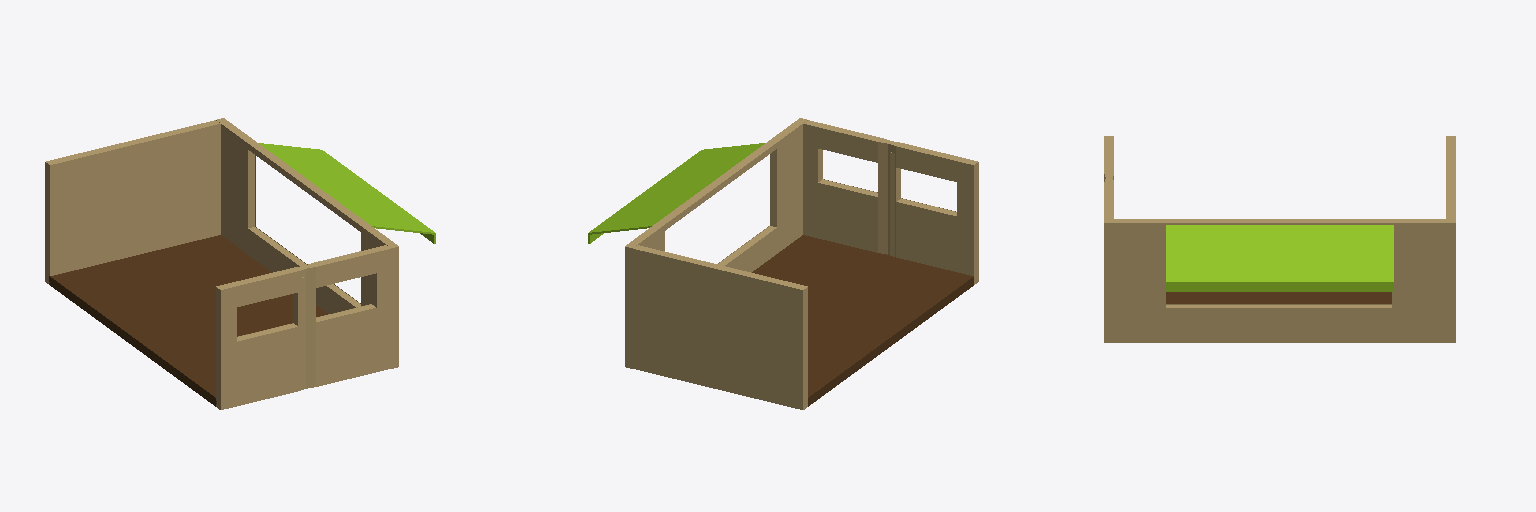
3 views of the same model, side by side, from view 1: azimuth 30°, elevation 25°; view 2: azimuth 150°, elevation 25°; view 3: azimuth 270°, elevation 25° (orthographic).
Visible parts, largest first — view 1: Cube.017, Cube.015, Cube.018; view 2: Cube.017, Cube.015, Cube.018; view 3: Cube.017, Cube.018, Cube.015.
Boxes of the visible parts, x1=… form: Cube.017: x1=45, y1=118, x2=398, y2=409; Cube.015: x1=49, y1=235, x2=327, y2=406; Cube.018: x1=259, y1=143, x2=435, y2=243; Cube.017: x1=625, y1=118, x2=978, y2=409; Cube.015: x1=752, y1=235, x2=973, y2=406; Cube.018: x1=588, y1=143, x2=764, y2=243; Cube.017: x1=1104, y1=136, x2=1455, y2=342; Cube.018: x1=1166, y1=225, x2=1393, y2=291; Cube.015: x1=1166, y1=292, x2=1391, y2=303.
Bounding box in the file's own units: 28.17 × 13.2 × 34.8.
3 materials, 3 textured.